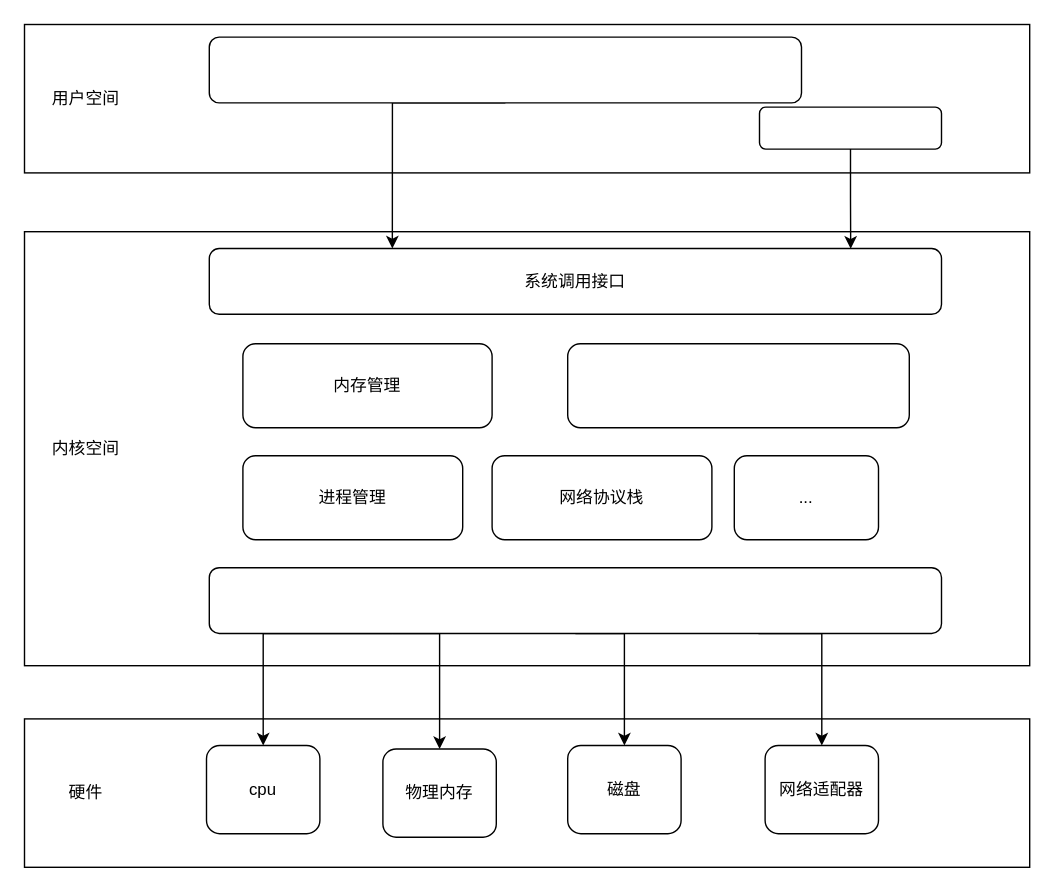
This 1054x892 diagram has some shape labels left out. Each missing label, with the centre of its shape:
"用户应用" belongs at point (505, 69).
"用户应用依赖库" belongs at point (849, 127).
"虚拟文件系统管理" belongs at point (737, 385).
"设备驱动" belongs at point (574, 600).
